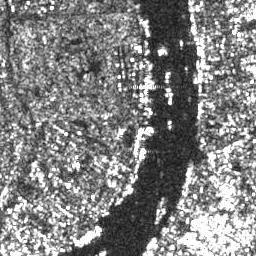ship: (71, 226, 104, 248), (141, 19, 151, 38), (166, 87, 175, 106), (146, 236, 157, 250), (138, 145, 147, 161), (163, 70, 172, 85), (166, 119, 174, 131), (188, 13, 195, 24), (133, 162, 139, 174)
